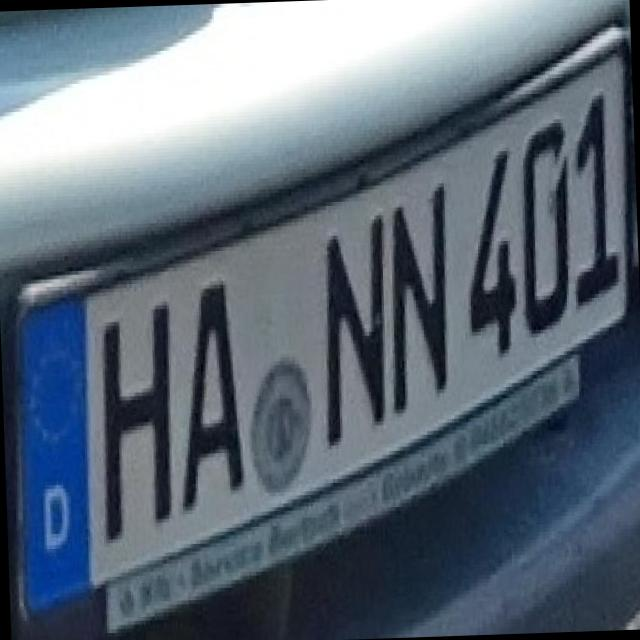0: (507, 107, 579, 330)
1: (556, 72, 628, 306)
4: (452, 128, 528, 358)
A: (162, 261, 255, 511)
H: (81, 286, 181, 544)
N: (306, 196, 398, 454), (369, 167, 458, 425)
